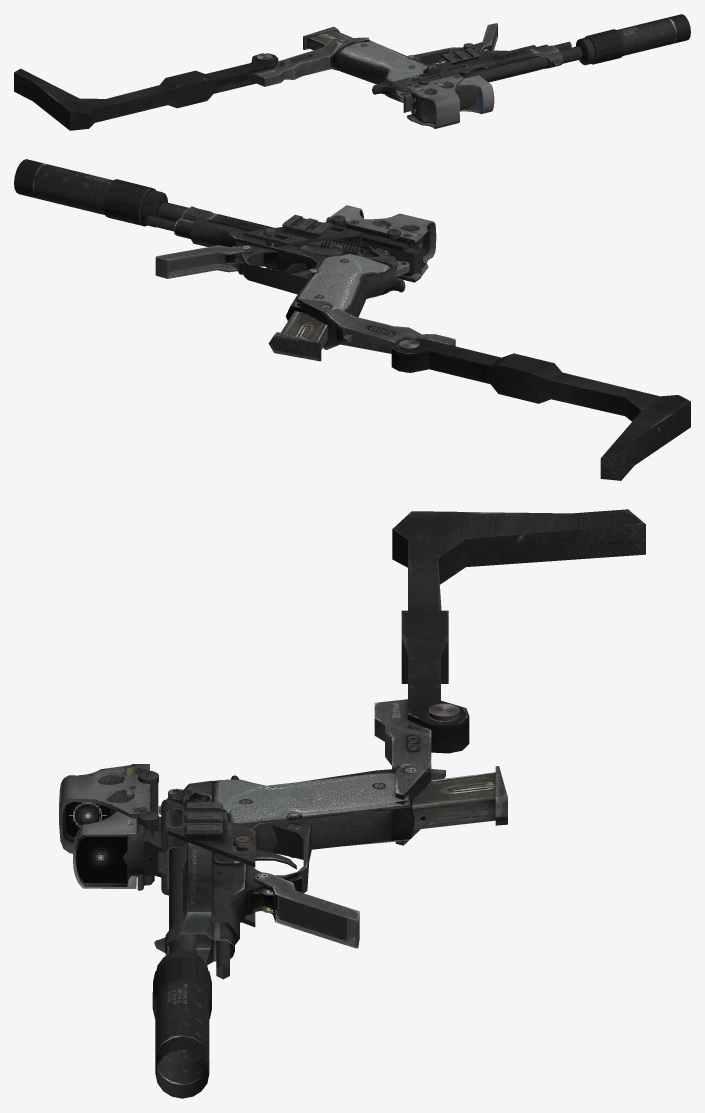
File: viewmodel_beretta_393_LOD0.obj
3 renders of one model, top to bottom at view 1: azimuth 30°, elevation 25°; view 2: azimuth 150°, elevation 25°; view 3: azimuth 270°, elevation 25°, orthographic. The views are drawn at different scales.
Visible parts, largest first — view 1: mtl_weapon_beretta_394_stock, mtl_weapon_beretta_393, mtl_weapon_suppressor_b, mtl_weapon_eotech_2, mtl_weapon_pistol_rail, mtl_weapon_red_dot_sight; view 2: mtl_weapon_beretta_393, mtl_weapon_beretta_394_stock, mtl_weapon_suppressor_b, mtl_weapon_pistol_rail, mtl_weapon_eotech_2, mtl_weapon_red_dot_sight; view 3: mtl_weapon_beretta_393, mtl_weapon_beretta_394_stock, mtl_weapon_suppressor_b, mtl_weapon_pistol_rail, mtl_weapon_eotech_2, mtl_weapon_red_dot_sight, mtl_weapon_red_cross_small, mtl_weapon_red_dot3.
Boxes of the visible parts, x1,y1,x2,y2 form: mtl_weapon_beretta_394_stock: [14, 37, 369, 130]; mtl_weapon_beretta_393: [303, 23, 582, 102]; mtl_weapon_suppressor_b: [576, 14, 690, 65]; mtl_weapon_eotech_2: [407, 74, 477, 128]; mtl_weapon_pistol_rail: [403, 42, 482, 112]; mtl_weapon_red_dot_sight: [418, 68, 494, 114]; mtl_weapon_beretta_393: [146, 202, 409, 361]; mtl_weapon_beretta_394_stock: [296, 297, 690, 480]; mtl_weapon_suppressor_b: [14, 159, 167, 227]; mtl_weapon_pistol_rail: [243, 214, 421, 275]; mtl_weapon_eotech_2: [343, 213, 436, 282]; mtl_weapon_red_dot_sight: [326, 205, 400, 241]; mtl_weapon_beretta_393: [154, 766, 507, 979]; mtl_weapon_beretta_394_stock: [374, 509, 645, 845]; mtl_weapon_suppressor_b: [152, 950, 211, 1098]; mtl_weapon_pistol_rail: [143, 799, 255, 927]; mtl_weapon_eotech_2: [59, 764, 158, 877]; mtl_weapon_red_dot_sight: [73, 770, 158, 890]; mtl_weapon_red_cross_small: [75, 835, 127, 882]; mtl_weapon_red_dot3: [65, 802, 110, 836].
Size of the model in its own units: 74.86 by 5.67 by 34.04.
